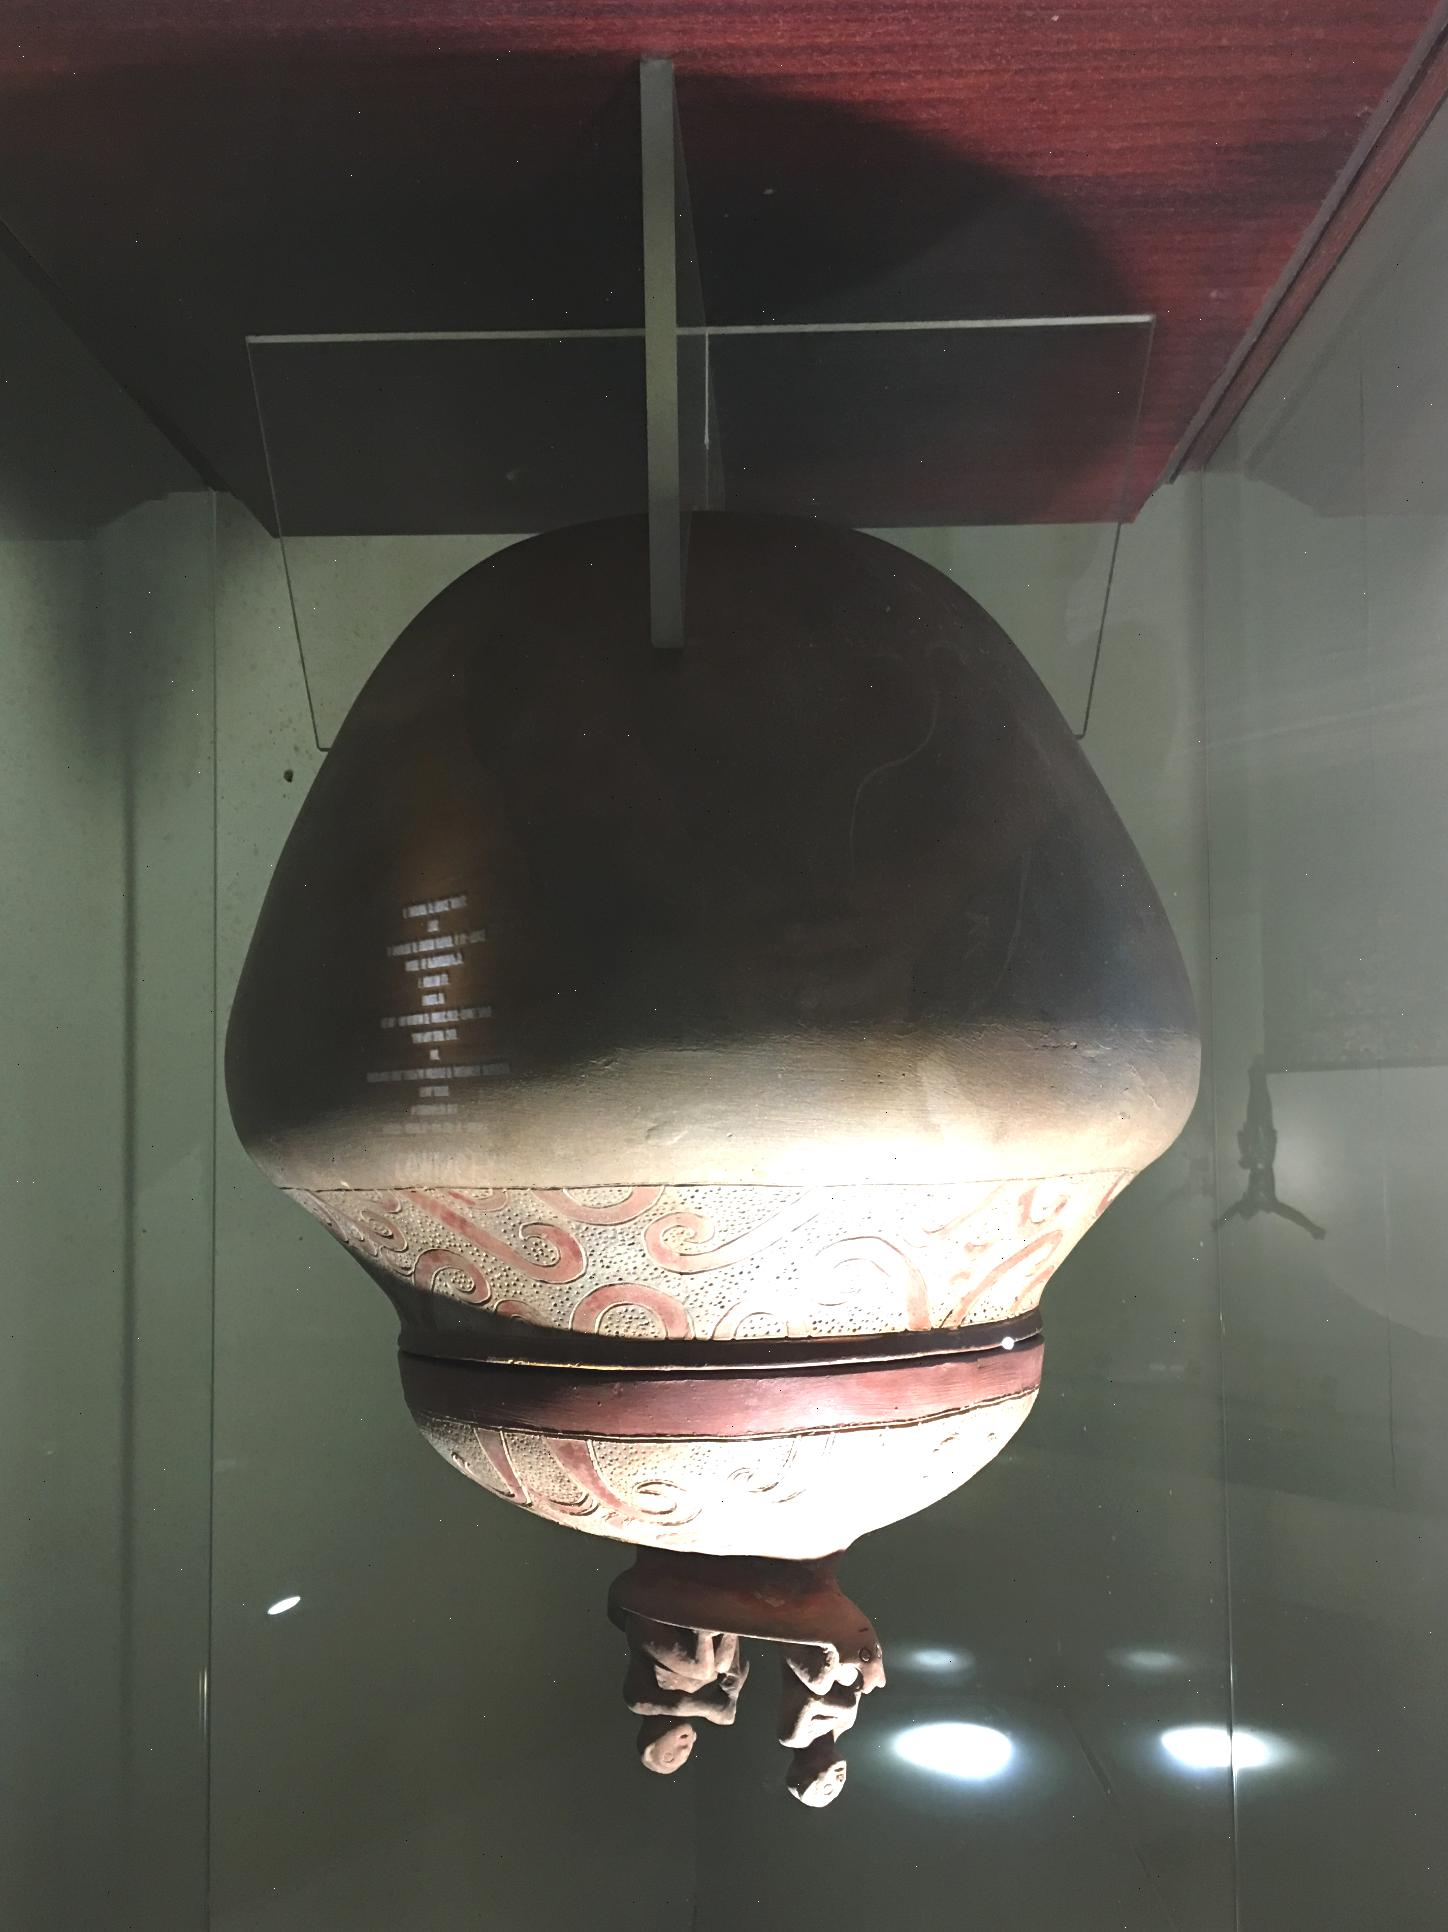manunggul_jar: (198, 408, 1302, 1932)
